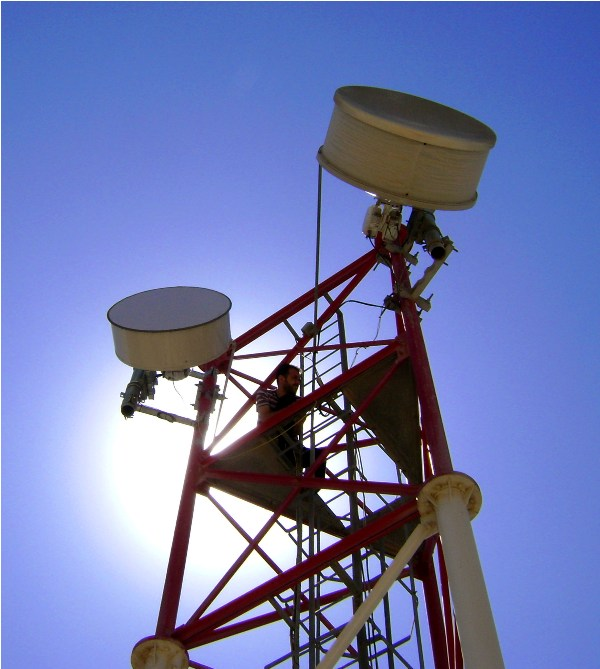ba: (318, 76, 494, 234), (92, 271, 252, 389)
